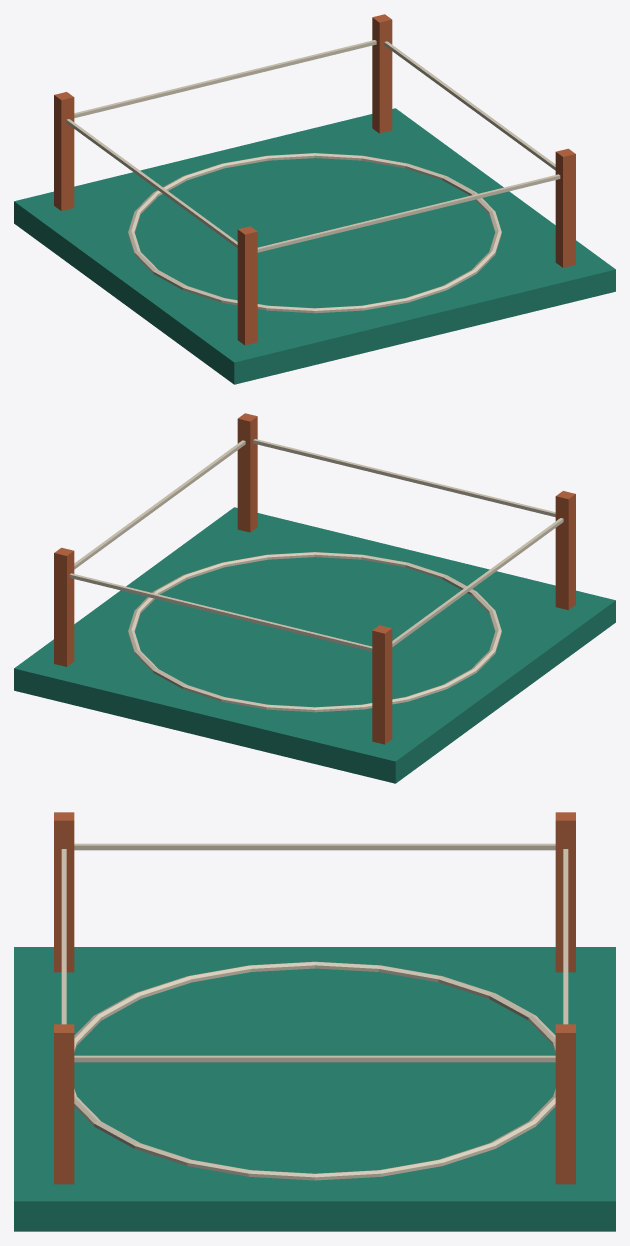
Rendered from greenhouse_plot.gltf.
The picture shows the model from 3 angles, top to bottom: view 1: azimuth 30°, elevation 25°; view 2: azimuth 150°, elevation 25°; view 3: azimuth 270°, elevation 25°; orthographic projection. The views are drawn at different scales.
Visible parts, largest first — view 1: floor, ring, stake_b, stake_c, stake_a, stake_d, string_b, string_d, string_c, string_a; view 2: floor, ring, stake_a, stake_d, stake_b, stake_c, string_d, string_b, string_c, string_a; view 3: floor, ring, string_a, string_c, stake_c, stake_d, stake_a, stake_b, string_b, string_d.
Part boxes in pixels (left/top/right/bottom): floor: left=14, top=108, right=615, bottom=384; ring: left=128, top=153, right=501, bottom=313; stake_b: left=237, top=226, right=257, bottom=345; stake_c: left=555, top=148, right=575, bottom=267; stake_a: left=54, top=92, right=74, bottom=210; stake_d: left=372, top=14, right=392, bottom=133; string_b: left=257, top=174, right=560, bottom=252; string_d: left=74, top=40, right=376, bottom=118; string_c: left=384, top=41, right=555, bottom=170; string_a: left=66, top=119, right=237, bottom=247; floor: left=14, top=507, right=615, bottom=783; ring: left=128, top=552, right=501, bottom=712; stake_a: left=372, top=625, right=392, bottom=744; stake_d: left=54, top=547, right=74, bottom=666; stake_b: left=555, top=491, right=575, bottom=609; stake_c: left=237, top=413, right=257, bottom=532; string_d: left=69, top=573, right=372, bottom=651; string_b: left=253, top=439, right=555, bottom=517; string_c: left=74, top=440, right=245, bottom=569; string_a: left=392, top=518, right=563, bottom=646; floor: left=14, top=947, right=615, bottom=1231; ring: left=74, top=961, right=555, bottom=1180; string_a: left=74, top=843, right=555, bottom=850; string_c: left=74, top=1055, right=555, bottom=1062; stake_c: left=54, top=1024, right=74, bottom=1184; stake_d: left=555, top=1024, right=575, bottom=1184; stake_a: left=555, top=812, right=575, bottom=972; stake_b: left=54, top=812, right=74, bottom=972; string_b: left=61, top=849, right=66, bottom=1024; string_d: left=563, top=849, right=568, bottom=1024.
Bounding box in the file's own units: 3.6 × 1.2 × 3.6.
